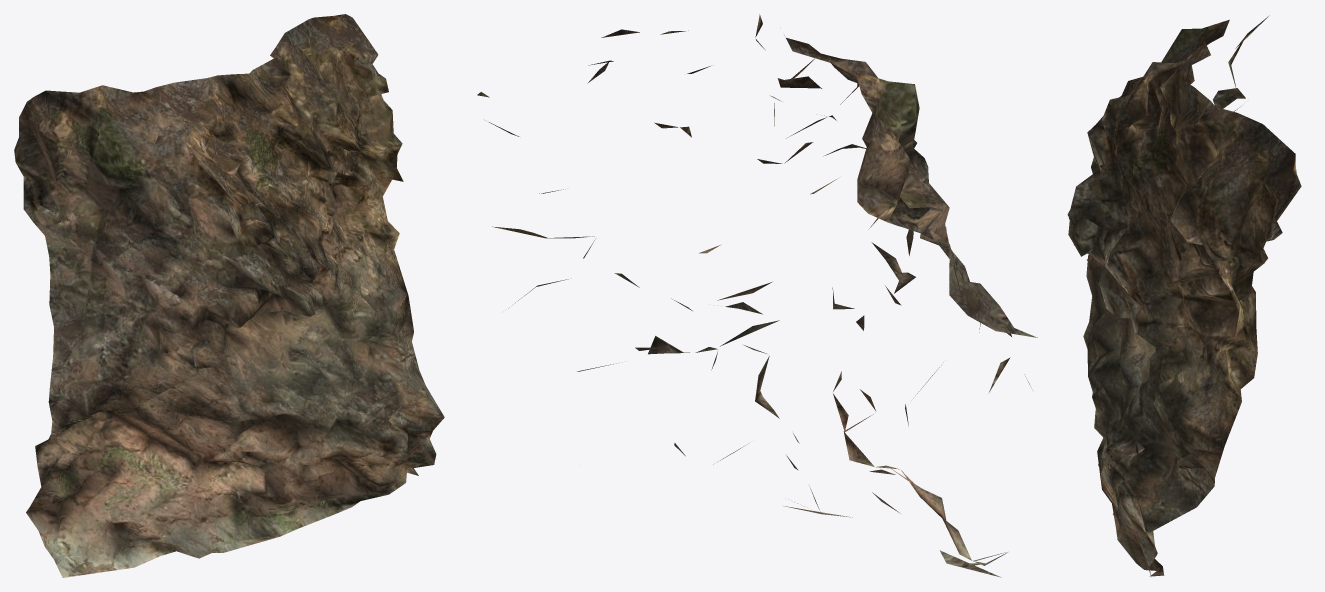
The model's file is hill_crag.glb.
The picture shows the model from 3 angles, left to right: view 1: azimuth 30°, elevation 25°; view 2: azimuth 150°, elevation 25°; view 3: azimuth 270°, elevation 25°; orthographic projection. The views are drawn at different scales.
Visible parts, largest first — view 1: hill_crag; view 2: hill_crag; view 3: hill_crag.
Part boxes in pixels (left/top/right/bottom): hill_crag: left=14, top=14, right=444, bottom=577; hill_crag: left=477, top=14, right=1037, bottom=577; hill_crag: left=1067, top=15, right=1301, bottom=576.
Bounding box in the file's own units: 10.19 × 10.48 × 5.25.
1 material, 1 textured.
